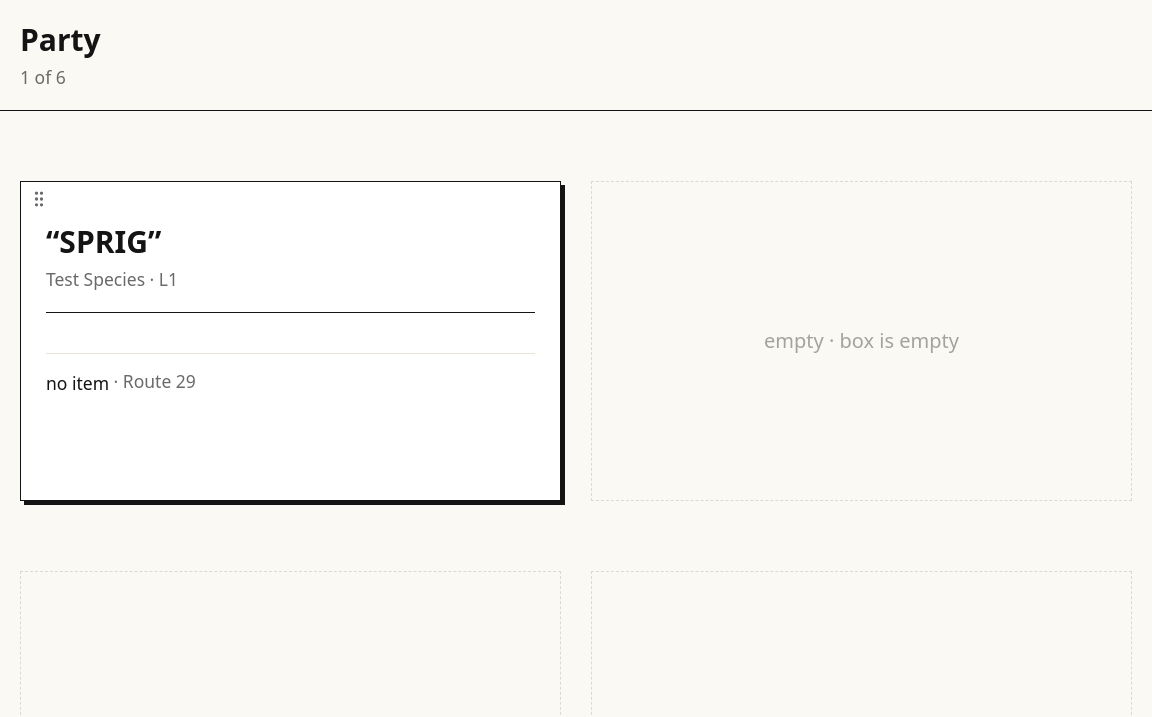
PartyScreen › titles the edit dialog with the route the mon was caught on
What coordinates should you click on to do the following:
click the button named "Edit “Sprig”"
I would click on:
 (290, 341)
Its box is [21,182,560,500].
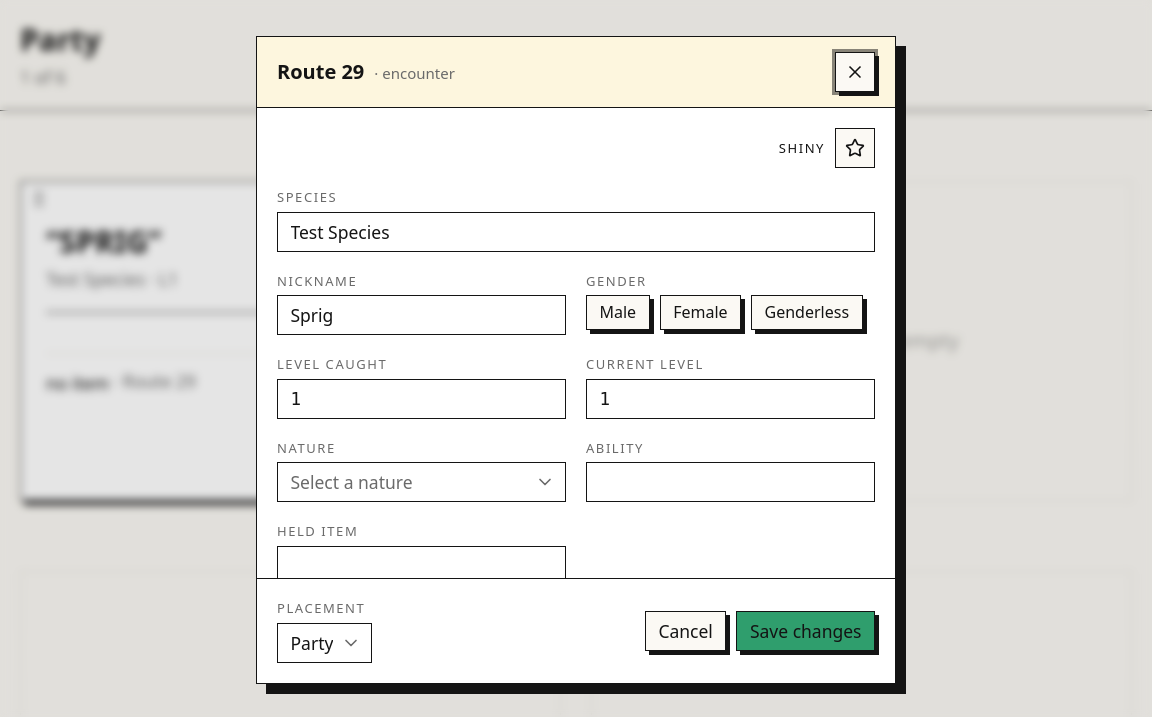
Result: the dialog "Route 29" is shown at [256,36,896,684]
